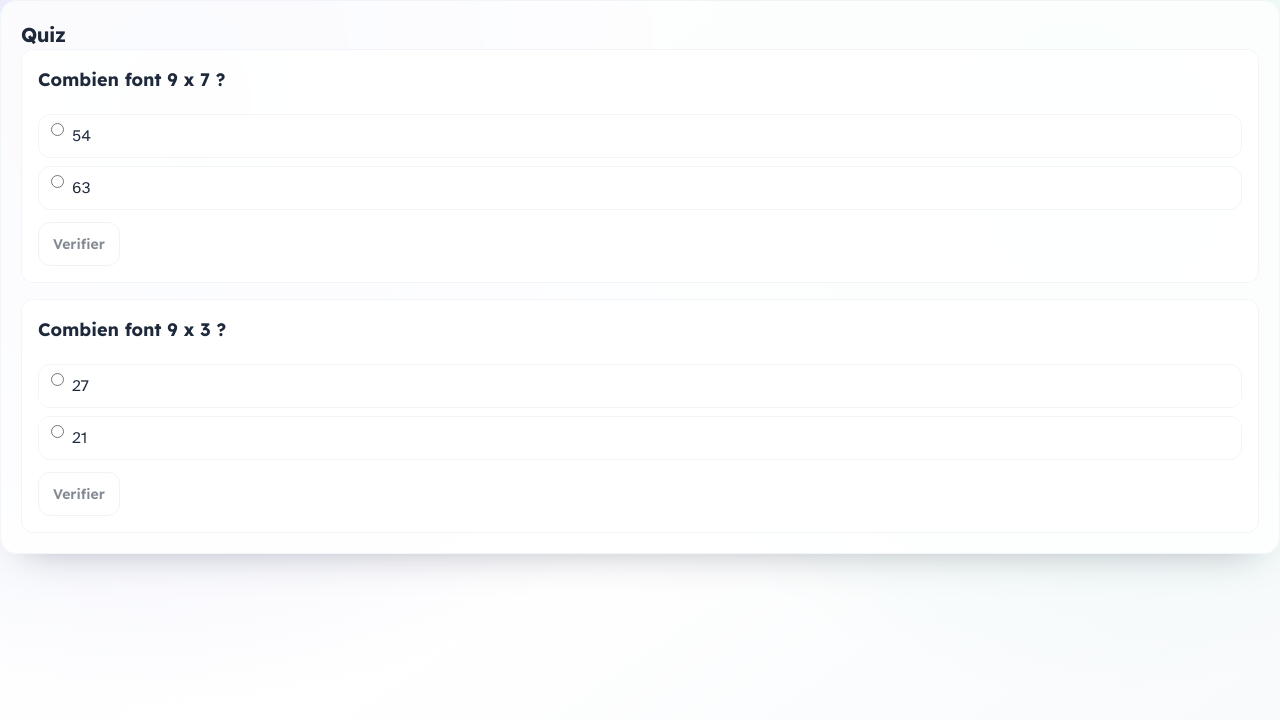
RevisionQuiz › renders questions and verifies answers with semantic feedback
Expected: the heading "Combien font 9 x 7 ?" is shown, left=38, top=68, right=226, bottom=91
Click the radio button labelled "54" at (58,130), box left=51, top=123, right=64, bottom=136
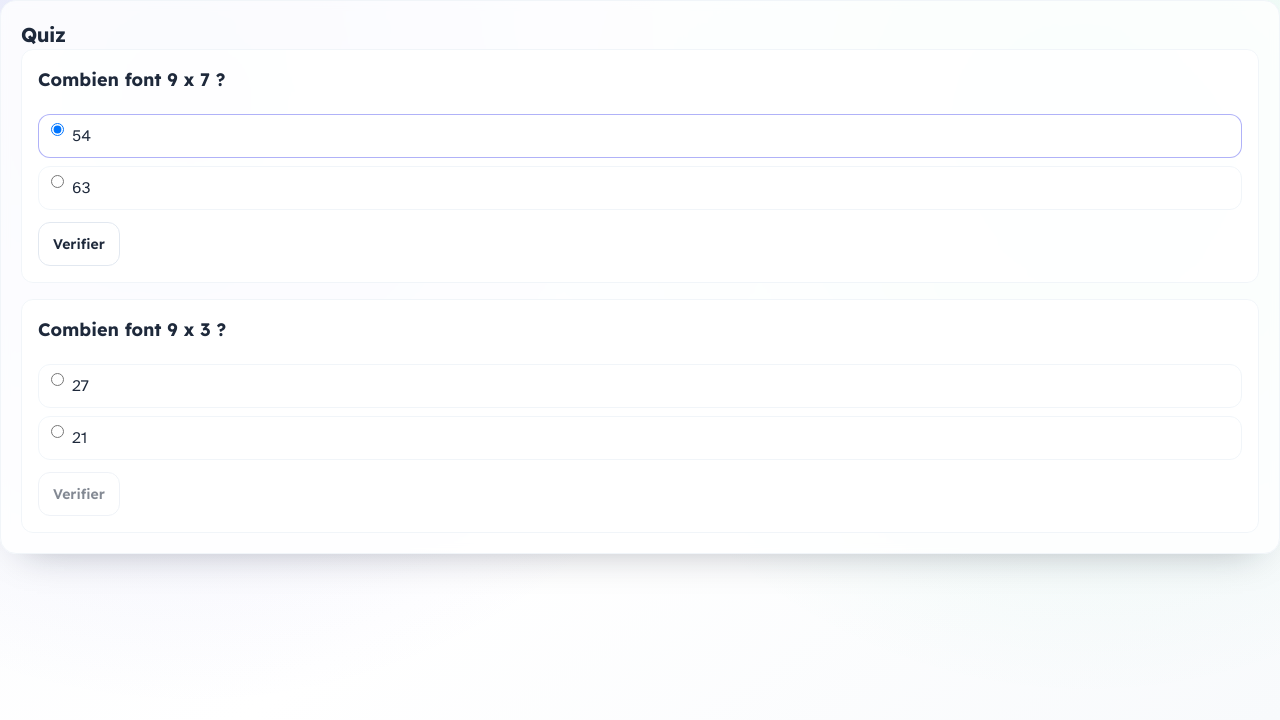
Click the button with test id "revision-quiz-verify-0" at (79,244), box left=38, top=222, right=120, bottom=266
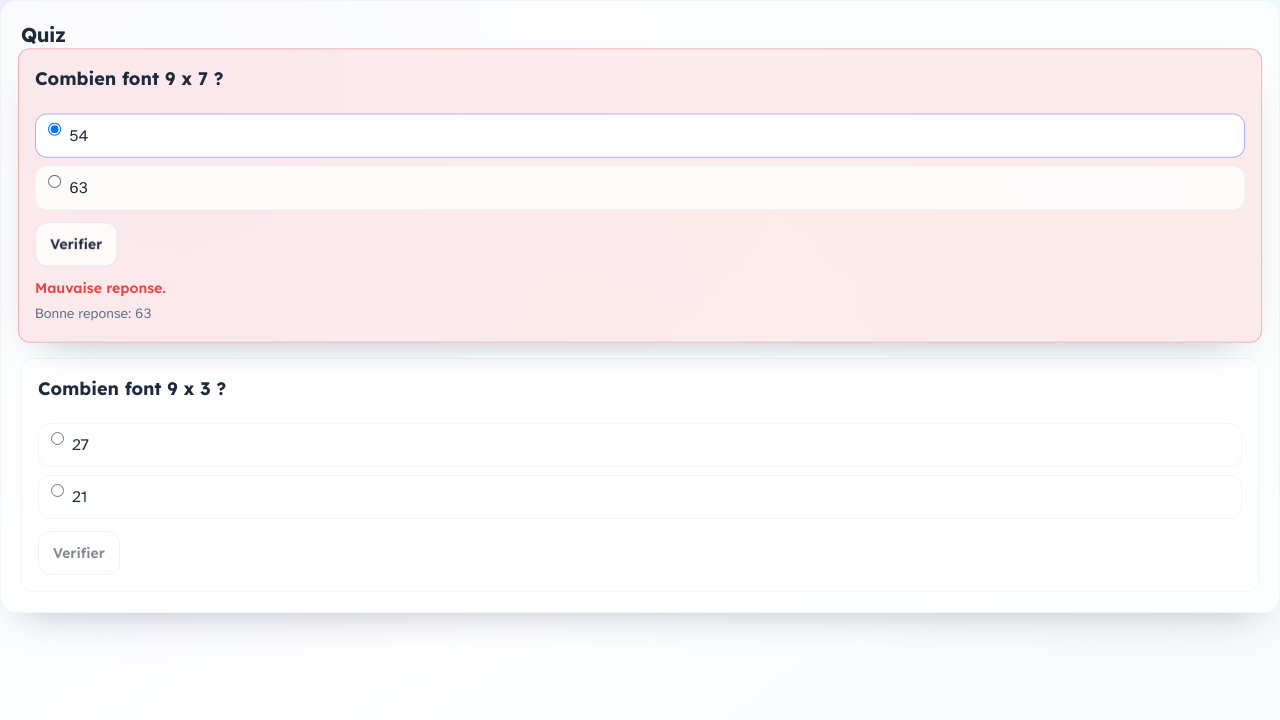
Expected: the text with test id "revision-quiz-feedback-0" reads "Mauvaise reponse.", left=35, top=279, right=166, bottom=298
Expected: the text "Bonne reponse: 63" is shown, left=35, top=304, right=152, bottom=322
Click the radio button labelled "63" at (55,181), box left=48, top=175, right=61, bottom=188
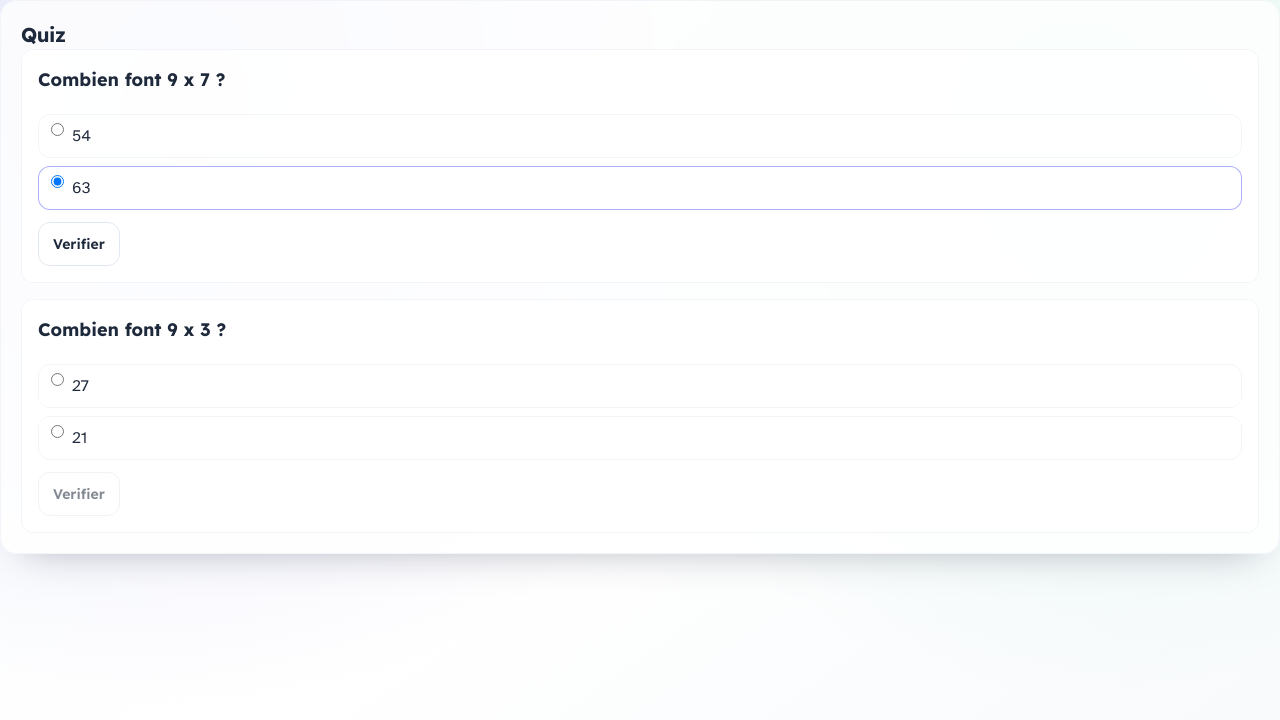
Click the button with test id "revision-quiz-verify-0" at (79,244), box left=38, top=222, right=120, bottom=266
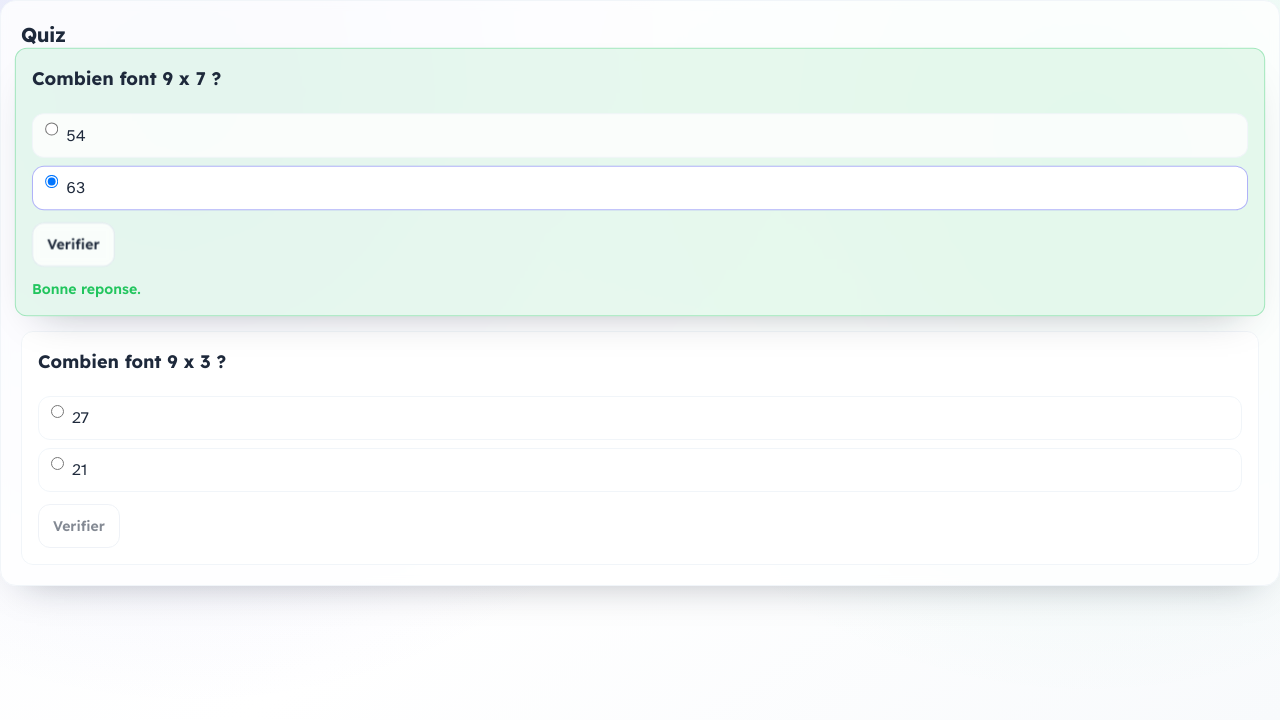
Expected: the heading "Combien font 9 x 3 ?" is shown, left=38, top=350, right=226, bottom=373
Expected: the text with test id "revision-quiz-feedback-0" reads "Bonne reponse.", left=32, top=280, right=141, bottom=298
